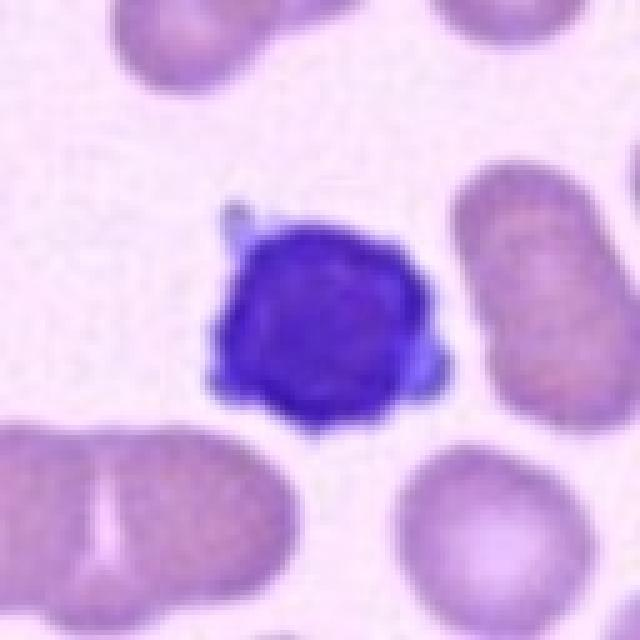lympho: (195, 187, 459, 441)
